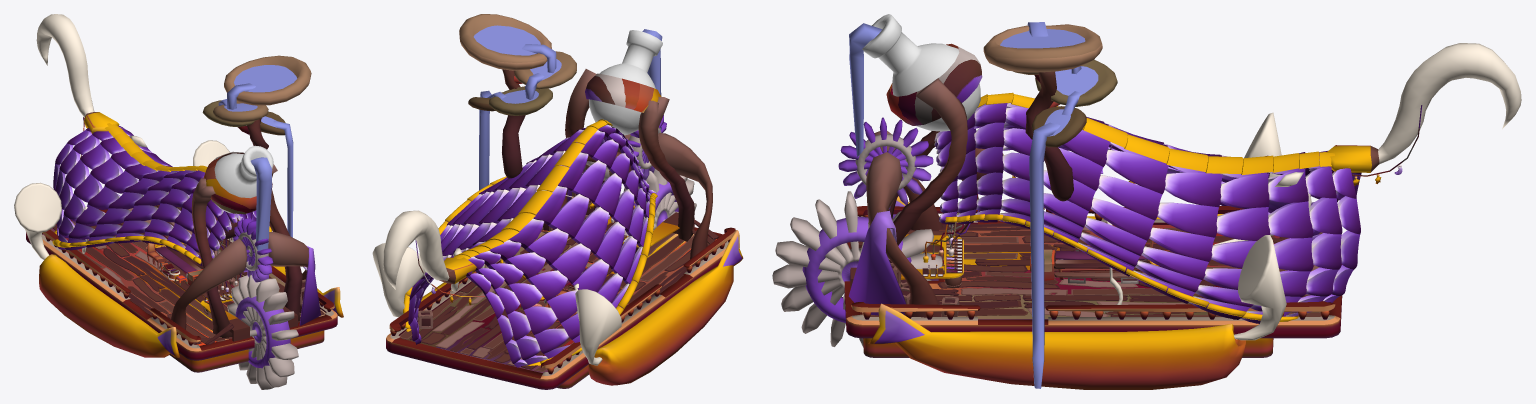
The model's file is goneBoat2.fbx.
3 renders of one model, left to right at view 1: azimuth 30°, elevation 25°; view 2: azimuth 150°, elevation 25°; view 3: azimuth 270°, elevation 25°, orthographic. The views are drawn at different scales.
Visible parts, largest first — view 1: boat main, boatBigWheel, boatFloorboards, boatHugeBottle, boatSmallWheel, boat purple table; view 2: boat main, boatFloorboards, boatHugeBottle, boatBigWheel, boatSmallWheel; view 3: boat main, boatFloorboards, boatBigWheel, boatHugeBottle, boatSmallWheel, boatWoodTable.
Part boxes in pixels (bbox=[...]): boat main: bbox=[14, 14, 343, 372]; boatBigWheel: bbox=[227, 275, 298, 389]; boatFloorboards: bbox=[50, 205, 324, 344]; boatHugeBottle: bbox=[214, 145, 273, 213]; boatSmallWheel: bbox=[233, 218, 273, 282]; boat purple table: bbox=[155, 246, 197, 280]; boat main: bbox=[372, 14, 743, 389]; boatFloorboards: bbox=[399, 217, 726, 371]; boatHugeBottle: bbox=[589, 30, 662, 135]; boatBigWheel: bbox=[623, 169, 696, 235]; boatSmallWheel: bbox=[628, 115, 666, 180]; boat main: bbox=[844, 22, 1521, 389]; boatFloorboards: bbox=[870, 223, 1322, 316]; boatBigWheel: bbox=[772, 191, 942, 347]; boatHugeBottle: bbox=[862, 14, 980, 131]; boatSmallWheel: bbox=[838, 117, 933, 209]; boatWoodTable: bbox=[1054, 260, 1150, 280].
Bounding box in the file's own units: 18.68 × 20.74 × 38.29.
